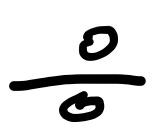div: (10, 24, 144, 123)
